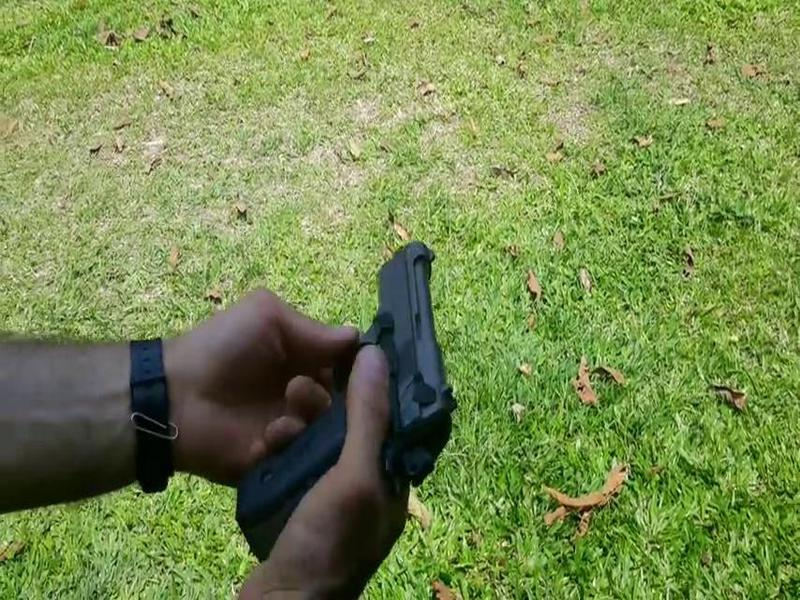Pistola: (234, 228, 471, 507)
